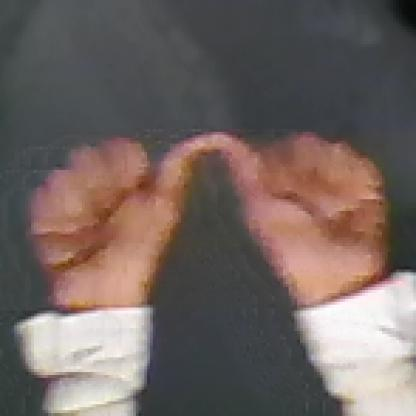A: (21, 122, 394, 296)
